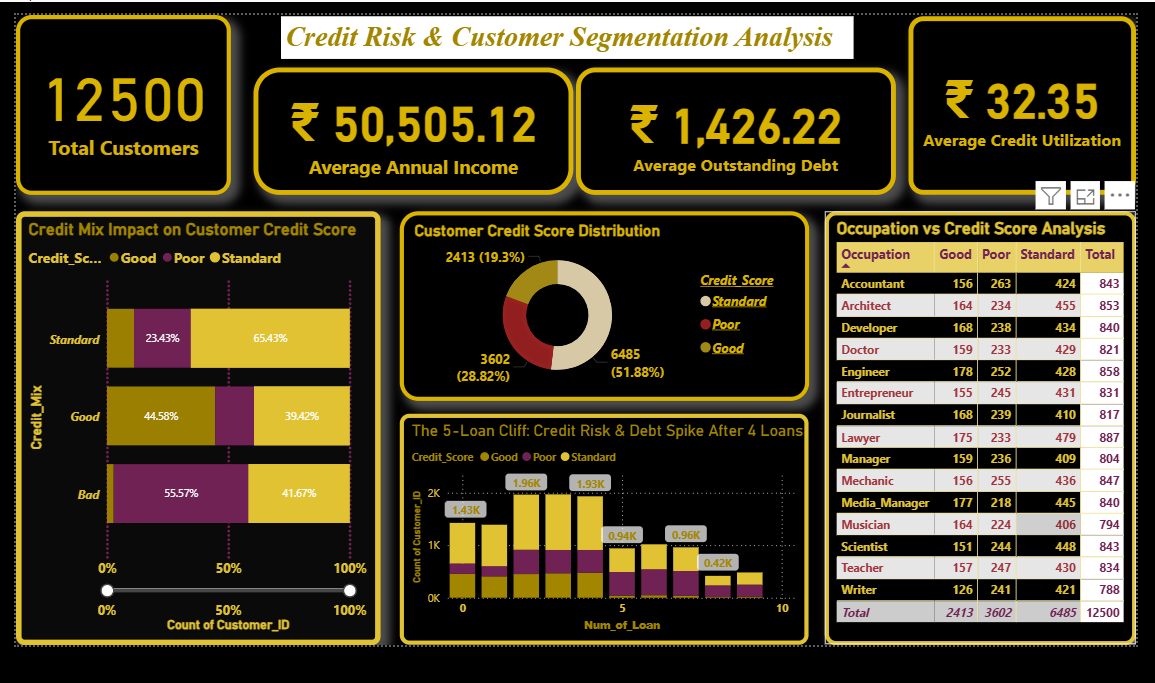

The page's visual inventory and layout, read from the dashboard file:
{"tool":"powerbi","page":{"name":"Page 1","canvas":[1280,720],"ordinal":0},"visuals":[{"type":"card","fields":{"Values":["dataset.Total Customers"]},"box":[0,0,245.7,205.7],"z":0},{"type":"card","fields":{"Values":["dataset.Average Annual Income"]},"box":[264.3,60,365.7,145.7],"z":1000},{"type":"card","fields":{"Values":["dataset.Average Outstanding Debt"]},"box":[640,60,365.7,145.7],"z":2000},{"type":"card","fields":{"Values":["dataset.Average Credit Utilization"]},"box":[1020,1.4,260,204.3],"z":3000},{"type":"donutChart","title":"Customer Credit Score Distribution","fields":{"Category":["dataset.Credit_Score"],"Y":["dataset.Total Customers"]},"box":[438,223.9,467.6,216.9],"z":4000},{"type":"pivotTable","title":"Occupation vs Credit Score Analysis","fields":{"Rows":["dataset.Occupation"],"Columns":["dataset.Credit_Score"],"Values":["dataset.Total Customers"]},"box":[923.9,223.9,356.3,495.8],"z":5000},{"type":"hundredPercentStackedBarChart","title":"Credit Mix Impact on Customer Credit Score","fields":{"Category":["dataset.Credit_Mix"],"Series":["dataset.Credit_Score"],"Y":["Count(dataset.Customer_ID)"]},"box":[0,223.9,416.9,495.8],"z":6000},{"type":"lineStackedColumnComboChart","title":"Customer Distribution by Number of Loans","fields":{"Category":["dataset.Num_of_Loan"],"Y":["Count(dataset.Customer_ID)"],"Series":["dataset.Credit_Score"]},"box":[438.6,455.7,467.1,264.3],"z":7000},{"type":"textbox","box":[302.9,1.4,654.3,48.6],"z":7001}]}

Visuals, with their boxes in screenshot pixels (x1, y1, x2, y2):
card - dataset.Total Customers: crop(27, 18, 238, 195)
card - dataset.Average Annual Income: crop(254, 70, 568, 195)
card - dataset.Average Outstanding Debt: crop(576, 70, 890, 195)
card - dataset.Average Credit Utilization: crop(903, 19, 1126, 195)
"Customer Credit Score Distribution" donutChart: crop(403, 210, 804, 396)
"Occupation vs Credit Score Analysis" pivotTable: crop(820, 210, 1126, 636)
"Credit Mix Impact on Customer Credit Score" hundredPercentStackedBarChart: crop(27, 210, 385, 636)
"Customer Distribution by Number of Loans" lineStackedColumnComboChart: crop(404, 409, 804, 636)
textbox: crop(287, 19, 849, 61)
